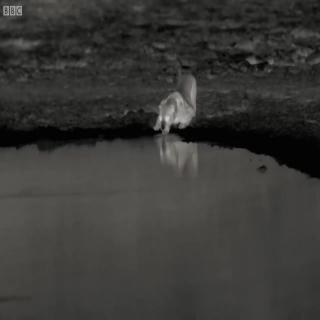Leopard: (146, 62, 203, 155)
